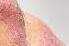plaque psoriasis: (0, 0, 30, 46), (41, 25, 69, 46)
